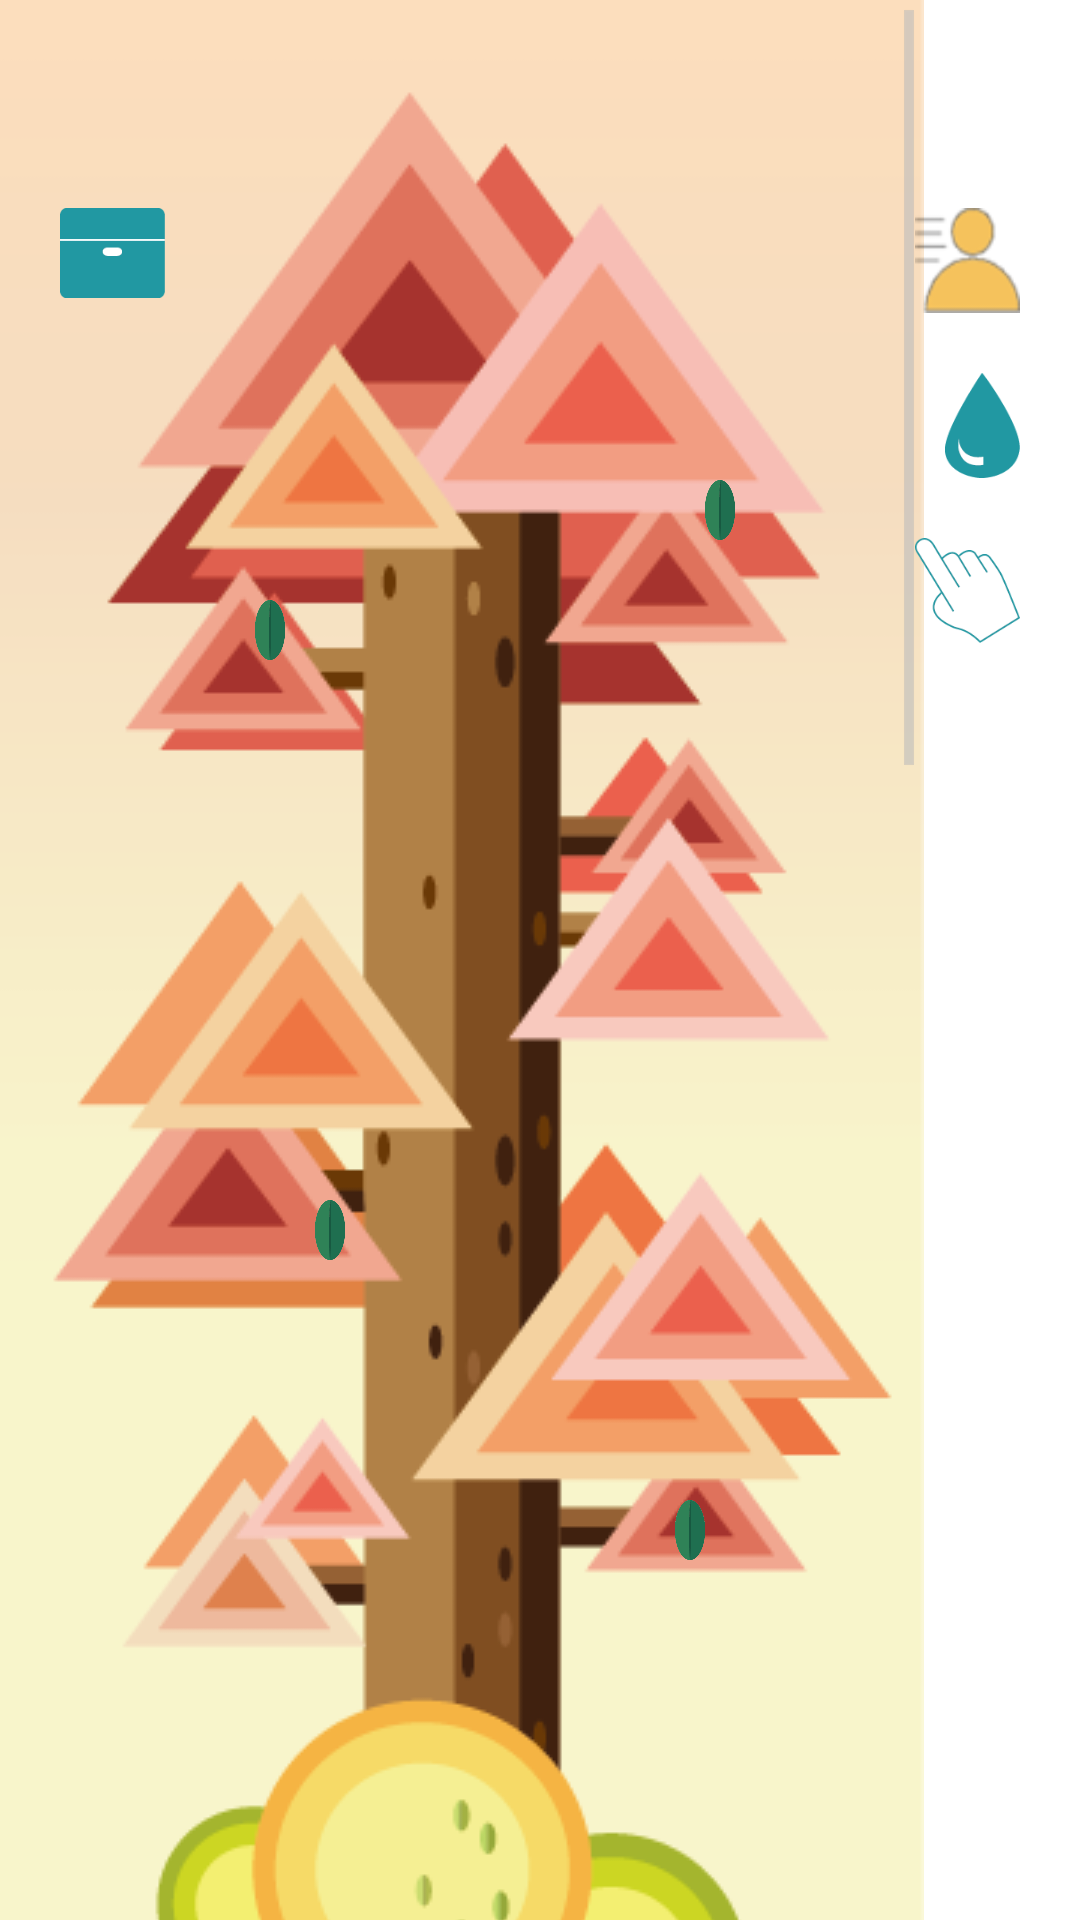

Screen size 1080px x 1920px. Icon name, then its center in pixels as (x=x, y=y):
tree bag: (x=112, y=253)
tree friend: (x=967, y=260)
tree hand: (x=967, y=590)
tree leaf: (x=720, y=510), (x=270, y=630), (x=330, y=1230), (x=690, y=1530)
tree water: (x=982, y=425)
